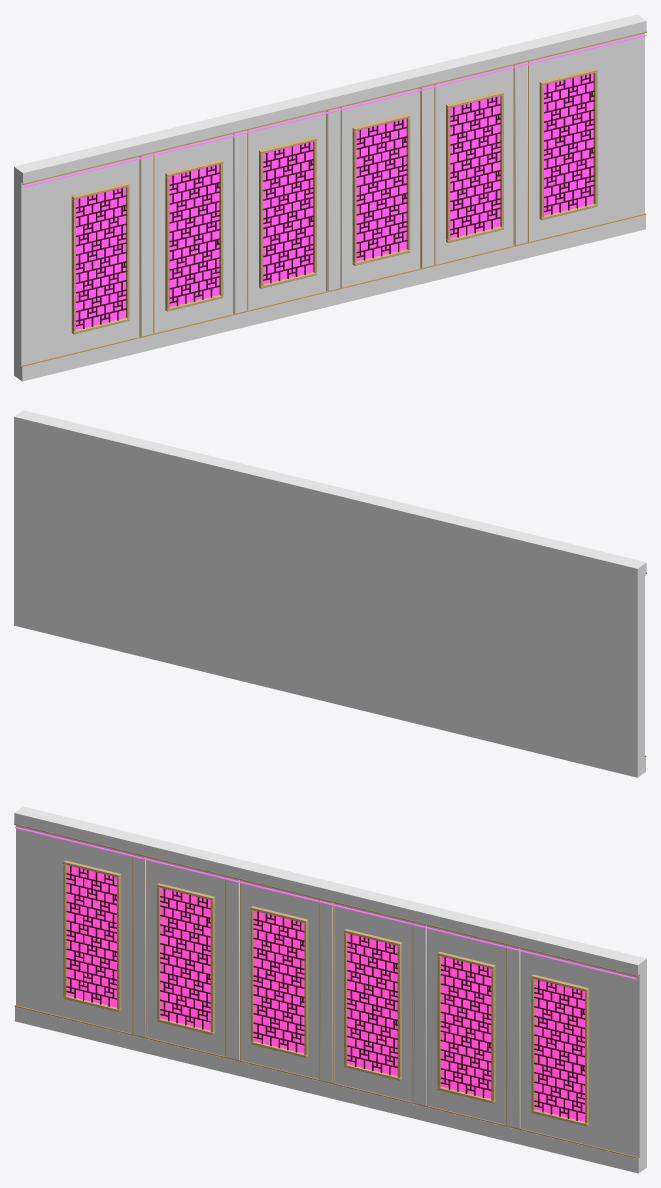
Rendered from JAC_34_Parede_Direita.glb.
The picture shows the model from 3 angles, top to bottom: view 1: azimuth 30°, elevation 25°; view 2: azimuth 150°, elevation 25°; view 3: azimuth 330°, elevation 25°; orthographic projection.
Parts seen in each view (by area): view 1: JAC_34_Parede_Direita; view 2: JAC_34_Parede_Direita; view 3: JAC_34_Parede_Direita.
Boxes of the visible parts, x1,y1,x2,y2 form: JAC_34_Parede_Direita: (14,14,646,381); JAC_34_Parede_Direita: (14,410,646,777); JAC_34_Parede_Direita: (14,806,646,1173).
Size of the model in its own units: 10 by 3.2 by 0.275.
